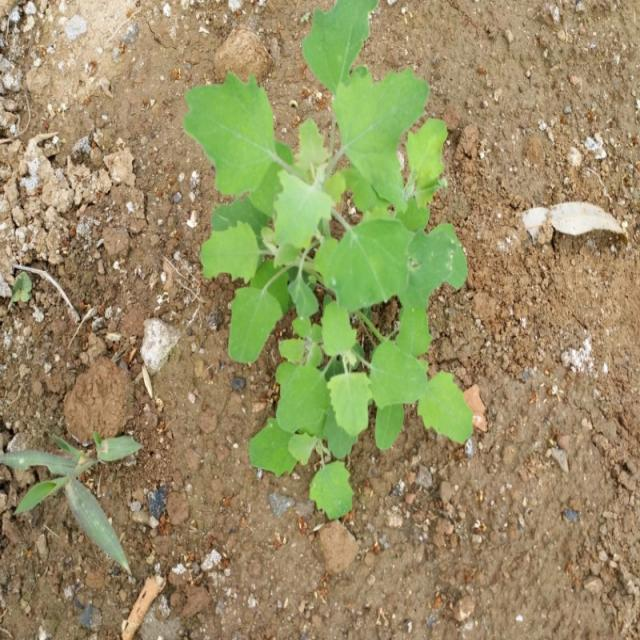ca: (183, 0, 476, 520)
